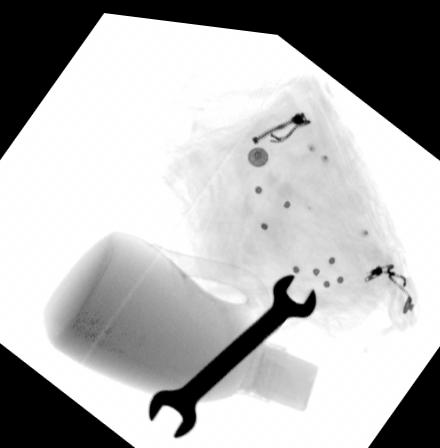Wrench: (147, 264, 318, 436)
